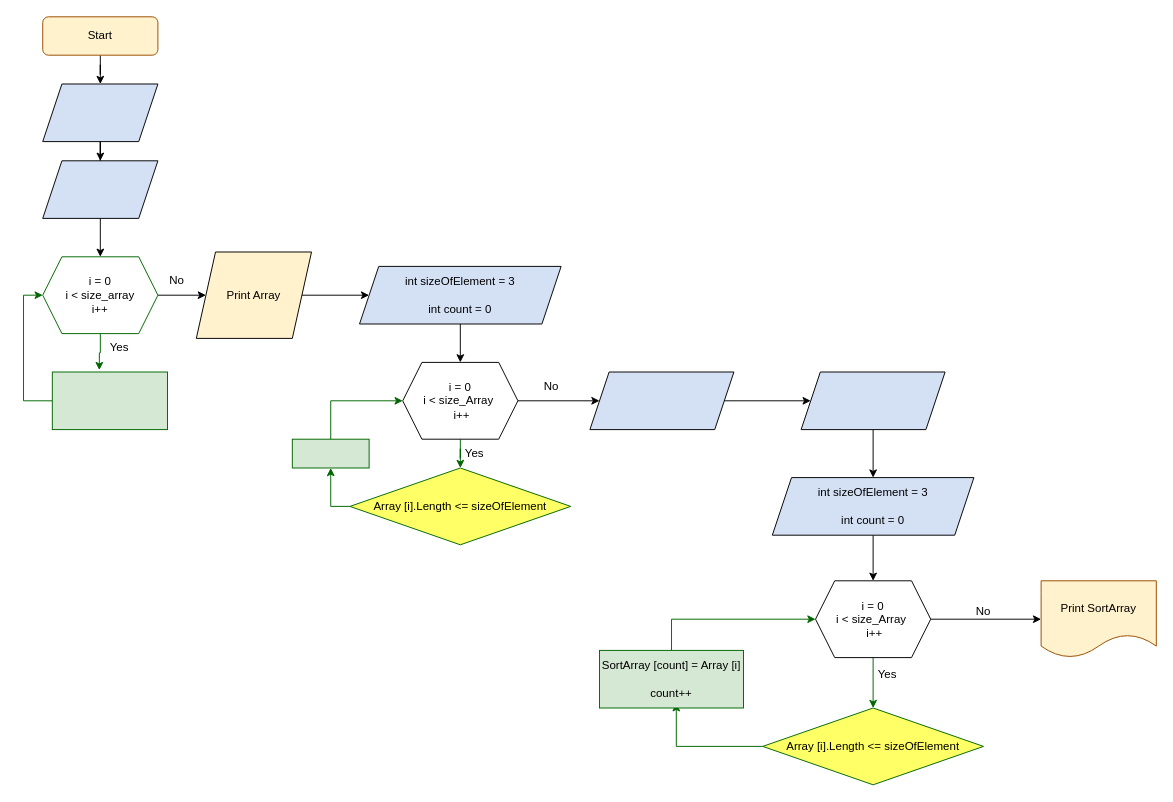
Image size: 1173x802. Some labels were removed from this diagram. The box of each missing label's shape, as (x1, y1, x2, y2) in pixels:
Array [i] = Введите значение (слово / число): (51, 371, 168, 430)
count++: (291, 438, 369, 468)
int size_array: (42, 83, 158, 142)
int size_sortArray: (589, 371, 734, 430)
string [] Array: (42, 160, 158, 218)
string [] SortArray: (800, 371, 945, 430)
